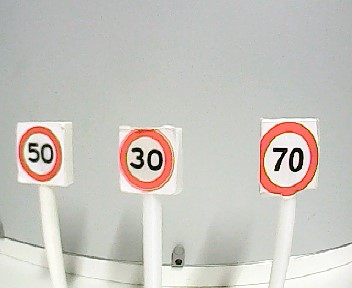30-bord: (119, 129, 175, 193)
50-bord: (18, 126, 63, 182)
70-bord: (260, 122, 318, 196)
